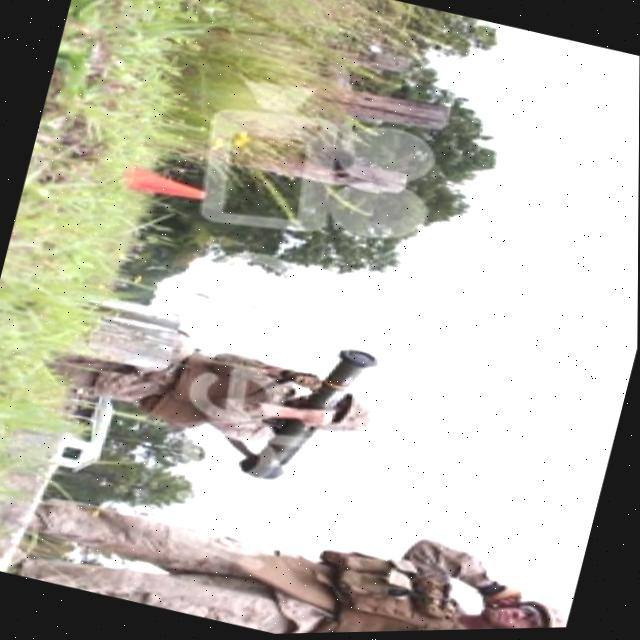rocket: (212, 319, 401, 510)
